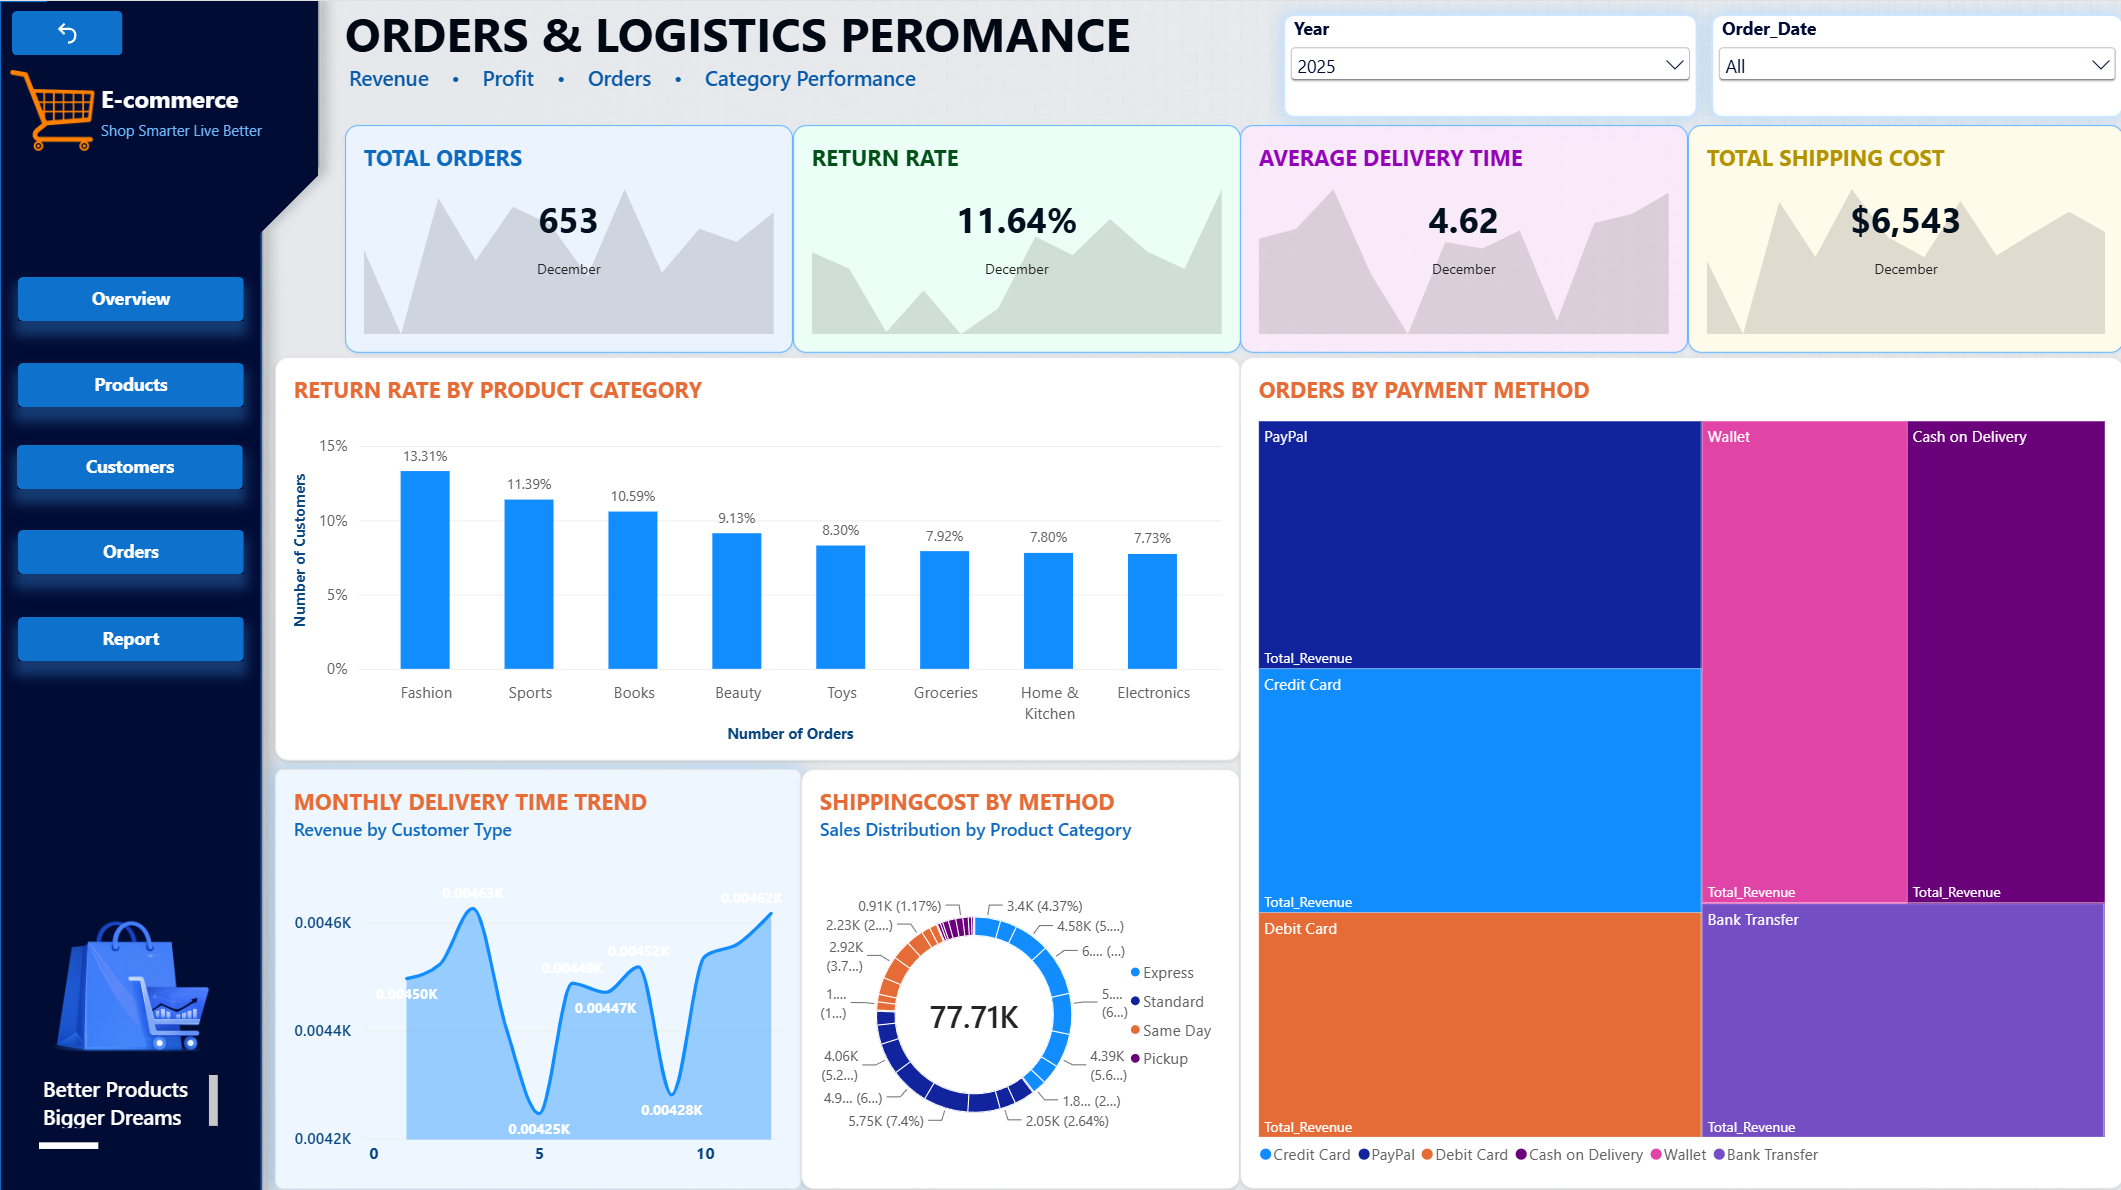

Layout of this report page (visuals, bound fields, positions):
{"tool":"powerbi","page":{"name":"Orders","canvas":[1920,1080],"ordinal":3},"visuals":[{"type":"textbox","box":[312,0,749,98],"z":0},{"type":"textbox","box":[315.1,56.9,644.9,48.1],"z":1000},{"type":"shape","box":[0,0,236.6,1079.8],"z":2000,"group":"g1"},{"type":"slicer","fields":{"Values":["ecommerce_orders_dataset (1).Year"]},"box":[1159.9,11.3,375.3,93.6],"z":2000},{"type":"shape","box":[42.2,0,245.4,210.1],"z":3000,"group":"g1"},{"type":"slicer","fields":{"Values":["ecommerce_orders_dataset (1).Order_Date.Variation.Date Hierarchy.Month"]},"box":[1546.6,11.3,373.4,93.6],"z":3000},{"type":"group","id":"g1","title":"Group 1","box":[0,0,287.6,1080],"z":4000},{"type":"kpi","title":"TOTAL ORDERS","fields":{"Indicator":["ecommerce_orders_dataset (1).Total_Orders"],"TrendLine":["Calendar.Calendar Month"]},"box":[312,112.5,404.6,206.1],"z":5000},{"type":"kpi","title":"RETURN RATE","fields":{"Indicator":["ecommerce_orders_dataset (1).Return Rate"],"TrendLine":["Calendar.Calendar Month"]},"box":[716.6,112.5,404.6,206.1],"z":6000},{"type":"kpi","title":"AVERAGE DELIVERY TIME","fields":{"Indicator":["ecommerce_orders_dataset (1).Avg Delivery Days"],"TrendLine":["Calendar.Calendar Month"]},"box":[1121.2,112.5,404.6,206.1],"z":7000},{"type":"kpi","title":"TOTAL SHIPPING COST","fields":{"Indicator":["ecommerce_orders_dataset (1).Total Shipping Cost"],"TrendLine":["Calendar.Calendar Month"]},"box":[1525.8,112.5,394.2,206.1],"z":8000},{"type":"image","box":[26.2,827.8,184.5,128.4],"z":9000},{"type":"textbox","box":[38.6,971.2,158,48.1],"z":10000},{"type":"shape","box":[34.9,989.9,53.6,89.8],"z":11000},{"type":"areaChart","title":"MONTHLY DELIVERY TIME TREND","fields":{"Category":["ecommerce_orders_dataset (1).Month"],"Y":["ecommerce_orders_dataset (1).Avg Delivery Days"]},"box":[248.6,693.9,475.5,380],"z":12000},{"type":"donutChart","title":"SHIPPINGCOST BY METHOD","fields":{"Category":["ecommerce_orders_dataset (1).Shipping_Method"],"Series":["ecommerce_orders_dataset (1).Product_Category"],"Y":["Sum(ecommerce_orders_dataset (1).Shipping_Cost)"]},"box":[724.1,693.9,397,380],"z":13000},{"type":"clusteredColumnChart","title":"RETURN RATE BY PRODUCT CATEGORY","fields":{"Category":["ecommerce_orders_dataset (1).Product_Category"],"Y":["ecommerce_orders_dataset (1).Return Rate"]},"box":[248.6,321.4,872.6,364.9],"z":14000},{"type":"treemap","title":"ORDERS BY PAYMENT  METHOD","fields":{"Group":["ecommerce_orders_dataset (1).Payment_Method"],"Values":["ecommerce_orders_dataset (1).Total_Orders","ecommerce_orders_dataset (1).Total_Revenue"]},"box":[1121.2,321.4,798.8,752.5],"z":15000},{"type":"image","box":[6.3,62.4,82.5,72.6],"z":16000},{"type":"textbox","box":[91.3,74.1,145.5,31.6],"z":17000},{"type":"textbox","box":[91.2,106.2,158.2,47.9],"z":19000},{"type":"actionButton","box":[16.3,249.5,204.3,39.8],"z":20000},{"type":"actionButton","box":[16.3,327.2,204.3,39.8],"z":21000},{"type":"actionButton","box":[15.4,401.4,204.3,39.8],"z":22000},{"type":"actionButton","box":[16.3,556.8,204.3,39.8],"z":23000},{"type":"actionButton","box":[16.3,478.2,204.3,39.8],"z":24000},{"type":"actionButton","box":[10.8,9,100,40],"z":24001}]}

Visuals, with their boxes in screenshot pixels (x1, y1, x2, y2), scaled from the page's 1920x1080 canvas onto the 2121x1190 screenshot:
textbox: left=345, top=0, right=1172, bottom=108
textbox: left=348, top=63, right=1060, bottom=116
shape: left=0, top=0, right=261, bottom=1189
slicer - ecommerce_orders_dataset (1).Year: left=1281, top=12, right=1696, bottom=116
shape: left=47, top=0, right=318, bottom=231
slicer - ecommerce_orders_dataset (1).Order_Date.Variation.Date Hierarchy.Month: left=1709, top=12, right=2120, bottom=116
"Group 1" group: left=0, top=0, right=318, bottom=1189
"TOTAL ORDERS" kpi: left=345, top=124, right=792, bottom=351
"RETURN RATE" kpi: left=792, top=124, right=1239, bottom=351
"AVERAGE DELIVERY TIME" kpi: left=1239, top=124, right=1686, bottom=351
"TOTAL SHIPPING COST" kpi: left=1686, top=124, right=2120, bottom=351
image: left=29, top=912, right=233, bottom=1054
textbox: left=43, top=1070, right=217, bottom=1123
shape: left=39, top=1091, right=98, bottom=1189
"MONTHLY DELIVERY TIME TREND" areaChart: left=275, top=765, right=800, bottom=1183
"SHIPPINGCOST BY METHOD" donutChart: left=800, top=765, right=1238, bottom=1183
"RETURN RATE BY PRODUCT CATEGORY" clusteredColumnChart: left=275, top=354, right=1239, bottom=756
"ORDERS BY PAYMENT  METHOD" treemap: left=1239, top=354, right=2120, bottom=1183
image: left=7, top=69, right=98, bottom=149
textbox: left=101, top=82, right=262, bottom=116
textbox: left=101, top=117, right=276, bottom=170
actionButton: left=18, top=275, right=244, bottom=319
actionButton: left=18, top=361, right=244, bottom=404
actionButton: left=17, top=442, right=243, bottom=486
actionButton: left=18, top=614, right=244, bottom=657
actionButton: left=18, top=527, right=244, bottom=571
actionButton: left=12, top=10, right=122, bottom=54
